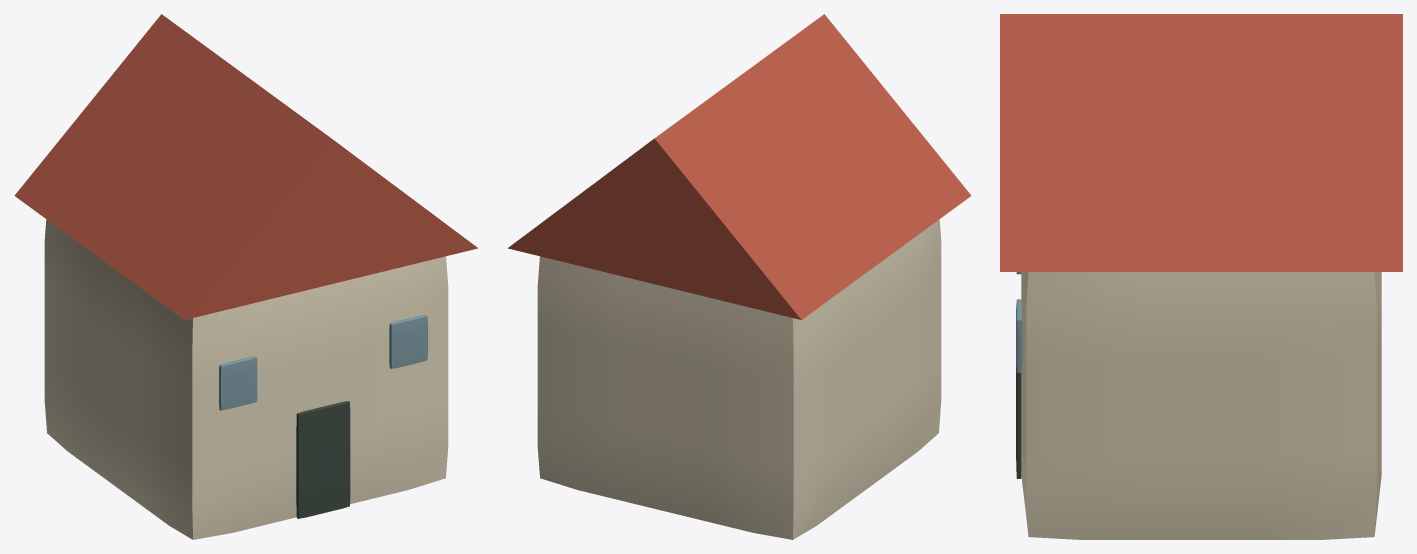
The model's file is metropole-house.glb.
3 views of the same model, side by side, from view 1: azimuth 30°, elevation 25°; view 2: azimuth 150°, elevation 25°; view 3: azimuth 270°, elevation 25° (orthographic). The views are drawn at different scales.
Parts seen in each view (by area): view 1: Walls, Terracotta_roof, Door, Window (×2); view 2: Walls, Terracotta_roof; view 3: Terracotta_roof, Walls, Door, Window.
Boxes of the visible parts, x1,y1,x2,y2 form: Walls: [44, 219, 448, 539]; Terracotta_roof: [14, 14, 477, 319]; Door: [296, 401, 350, 518]; Window (×2): [219, 314, 427, 410]; Walls: [537, 219, 941, 539]; Terracotta_roof: [508, 14, 971, 319]; Terracotta_roof: [1000, 14, 1402, 271]; Walls: [1021, 272, 1381, 539]; Door: [1016, 364, 1021, 478]; Window: [1016, 299, 1022, 372].
Bounding box in the file's own units: 0.19 × 0.2375 × 0.19.
